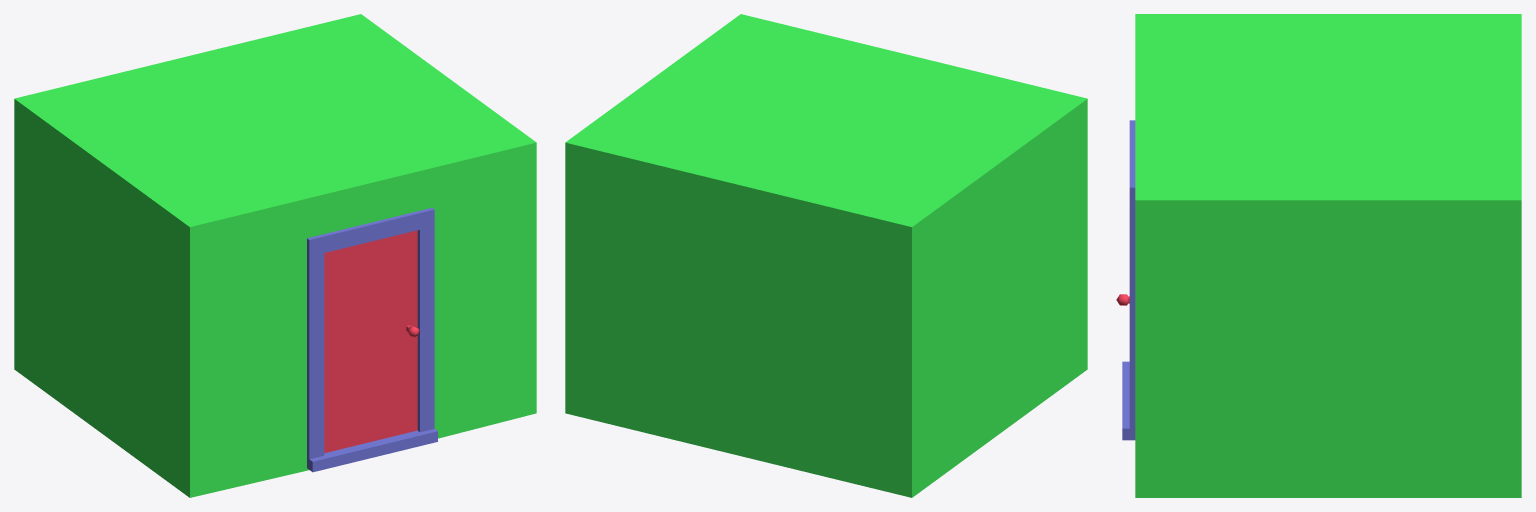
Rendered from Dør+Rom.FBX.
3 views of the same model, side by side, from view 1: azimuth 30°, elevation 25°; view 2: azimuth 150°, elevation 25°; view 3: azimuth 270°, elevation 25° (orthographic). The views are drawn at different scales.
Parts seen in each view (by area): view 1: Depthmask_Rom, Dør, Dør_Ramme; view 2: Depthmask_Rom; view 3: Depthmask_Rom, Dør_Ramme.
Boxes of the visible parts, x1,y1,x2,y2 form: Depthmask_Rom: [14, 14, 536, 497]; Dør: [324, 230, 417, 453]; Dør_Ramme: [307, 208, 437, 472]; Depthmask_Rom: [565, 14, 1087, 497]; Depthmask_Rom: [1135, 14, 1521, 497]; Dør_Ramme: [1122, 120, 1135, 440].
Size of the model in its own units: 390 by 292 by 359.
